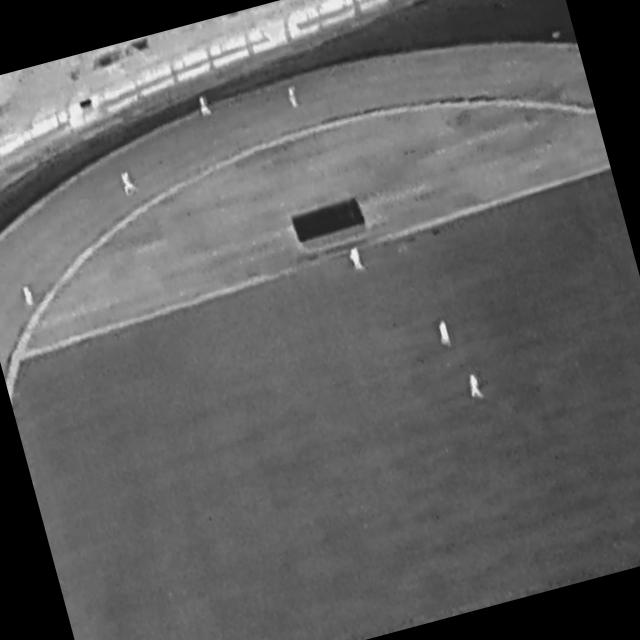person: (120, 170, 140, 199), (435, 320, 453, 349), (468, 374, 485, 401), (348, 246, 365, 272), (286, 85, 301, 109), (198, 95, 213, 117), (22, 286, 35, 308)
